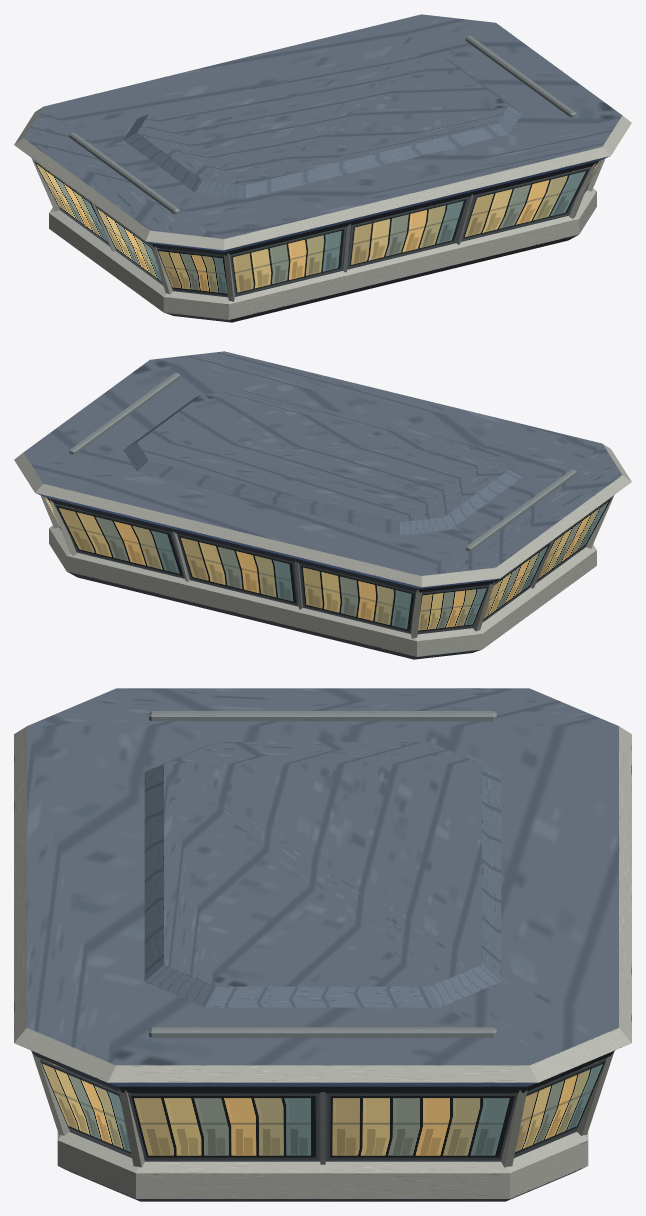
Rendered from ControlCabin.fbx.
3 renders of one model, top to bottom at view 1: azimuth 30°, elevation 25°; view 2: azimuth 150°, elevation 25°; view 3: azimuth 270°, elevation 25°, orthographic. The views are drawn at different scales.
Visible parts, largest first — view 1: ControlCabin; view 2: ControlCabin; view 3: ControlCabin.
Part boxes in pixels (<box>): ControlCabin: <box>14,14,631,322</box>; ControlCabin: <box>14,351,631,659</box>; ControlCabin: <box>14,688,631,1201</box>.
Size of the model in its own units: 2110 by 440 by 1420.
